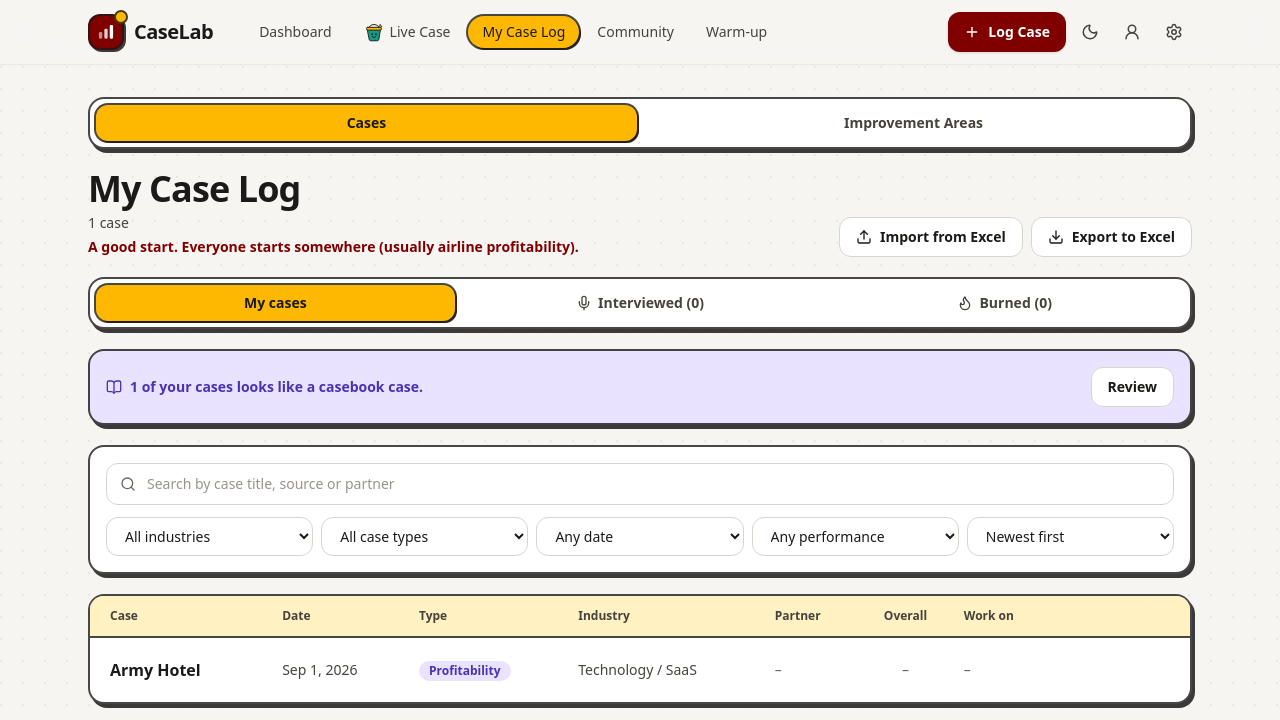
from the book, in a case you did › shows what a strong answer covers, the ideas it tests, the common mistakes, the difficulty and the skills
This screenshot has width=1280, height=720.
Expected: the heading "My Case Log" is shown, [88,164,300,213]
Click the button "Army Hotel".
click(155, 670)  # box [110,659,201,681]
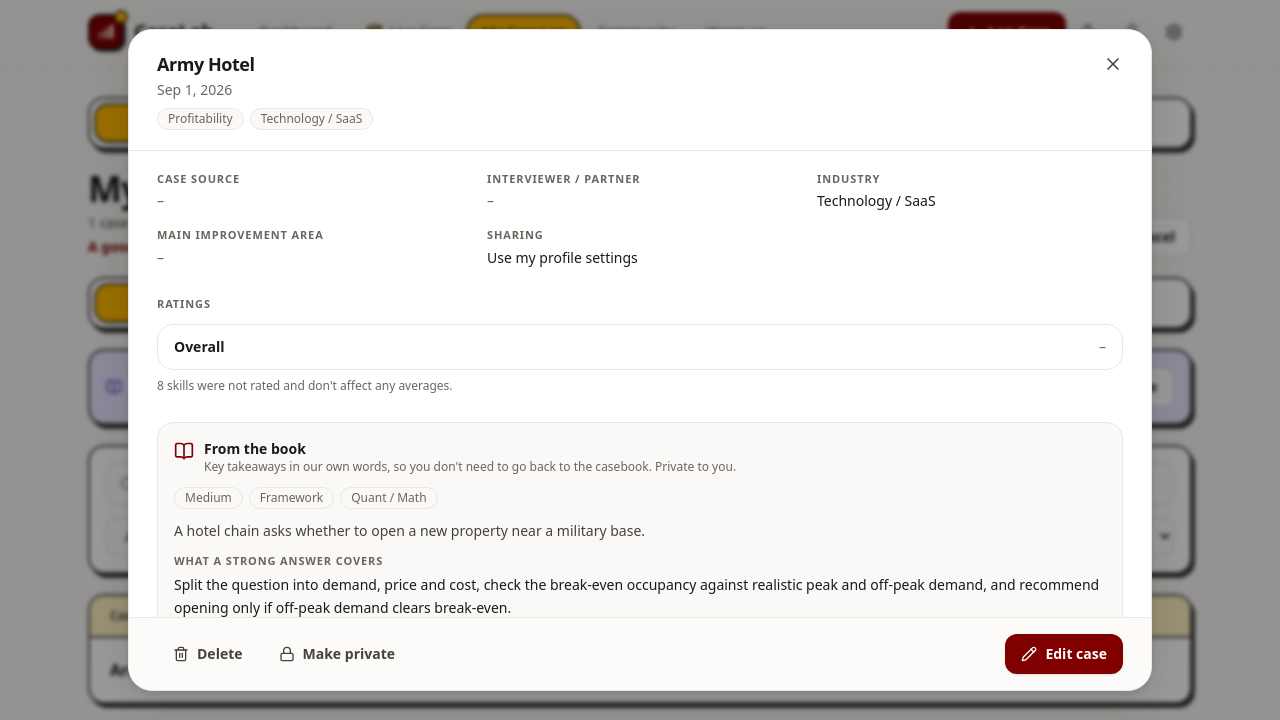
Expected: the text "A hotel chain asks whether to open a new property near a military base." is shown, [174,521,645,540]
Expected: the text "check the break-even occupancy" is shown, [174,575,1099,617]
Expected: the text "Medium" is shown, [174,487,243,509]
